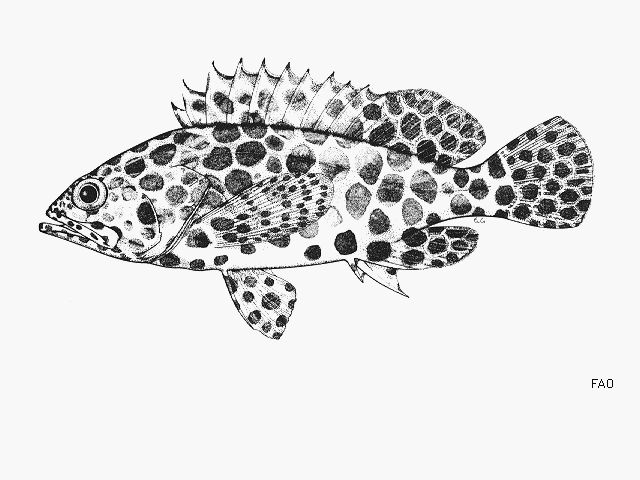fish: (38, 54, 595, 341)
